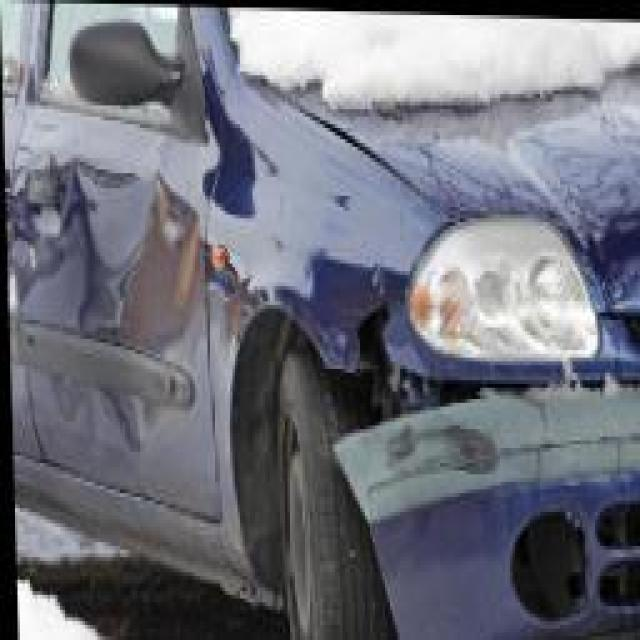Bumper: (352, 369, 639, 638)
Door: (8, 105, 208, 476)
Fender: (215, 143, 408, 404)
